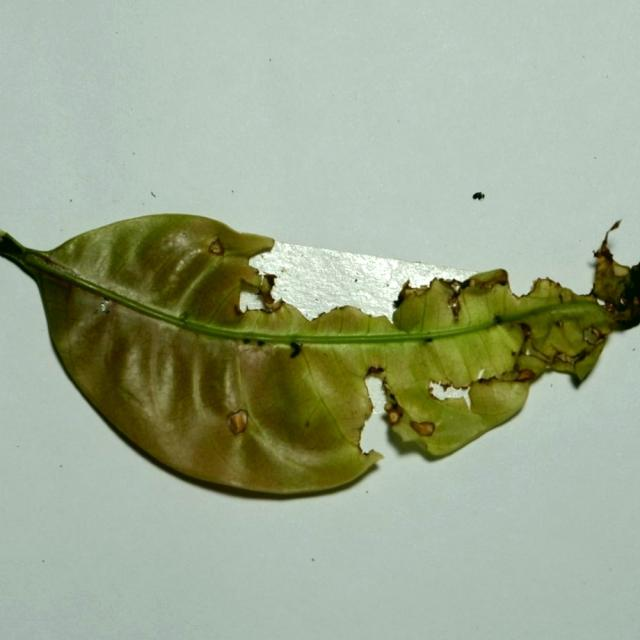Anthracnose: (250, 433, 377, 491), (36, 273, 93, 362), (233, 344, 280, 414), (229, 304, 311, 336), (160, 241, 211, 288), (455, 281, 500, 333), (416, 283, 459, 336), (218, 347, 245, 426), (226, 358, 252, 437), (386, 408, 436, 449), (426, 379, 480, 409), (424, 334, 448, 382), (496, 322, 525, 358), (364, 374, 389, 415), (400, 274, 444, 295), (115, 384, 146, 412), (237, 287, 270, 313), (325, 305, 373, 322), (417, 285, 430, 339), (353, 421, 372, 451), (373, 314, 394, 333), (99, 300, 111, 313), (476, 368, 486, 381), (178, 311, 189, 320), (304, 420, 310, 428)
Mango: (0, 214, 639, 503)
